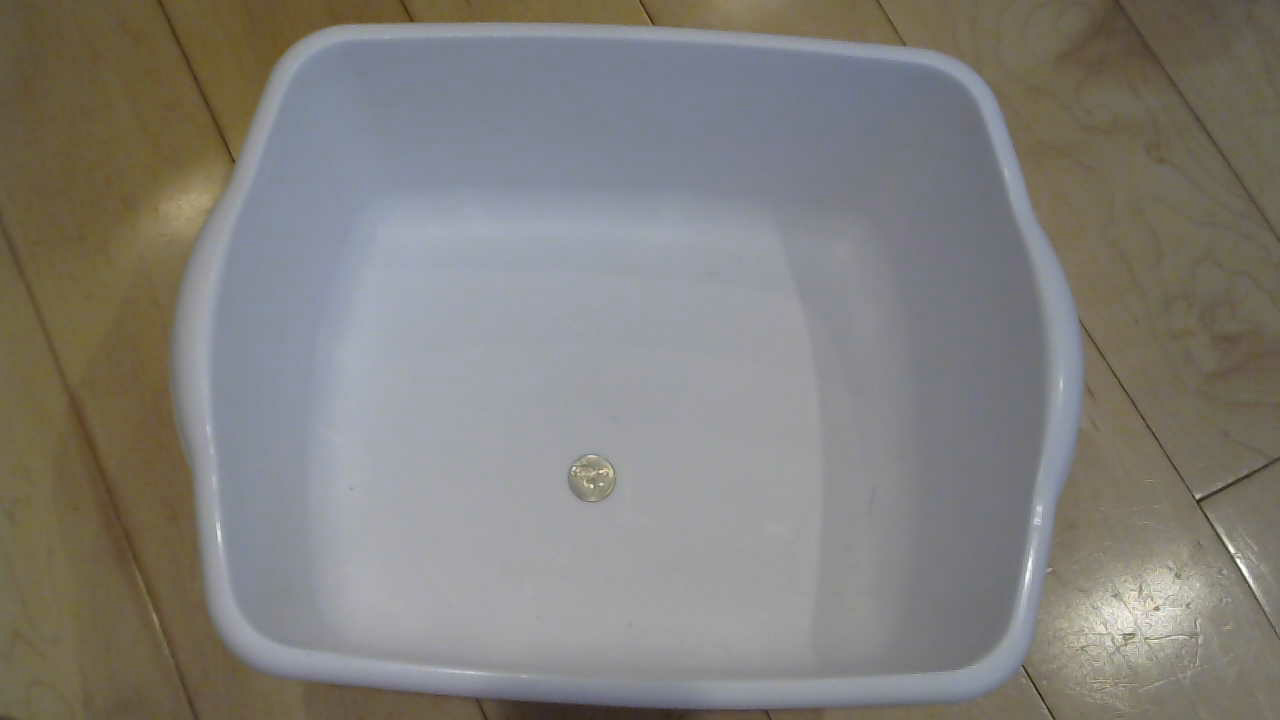coin: (567, 453, 631, 512)
